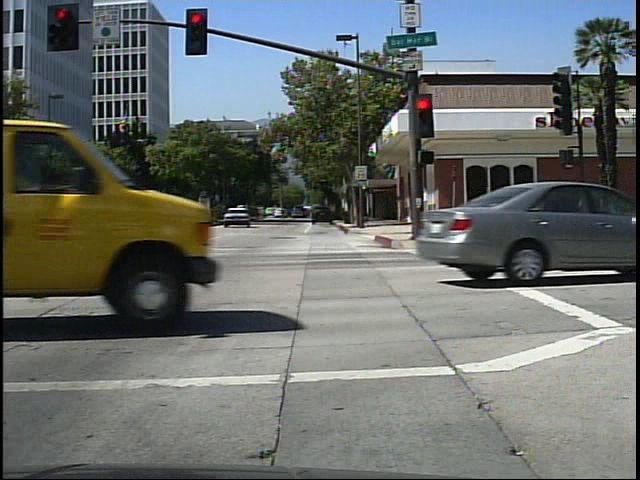person: (278, 204, 290, 222)
